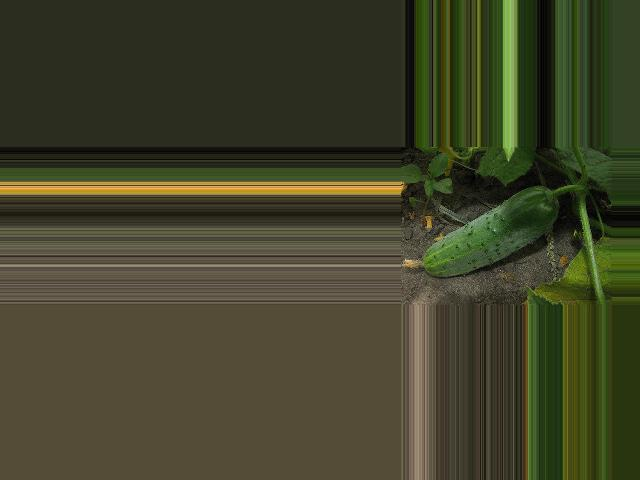cucumber: (401, 186, 558, 278)
